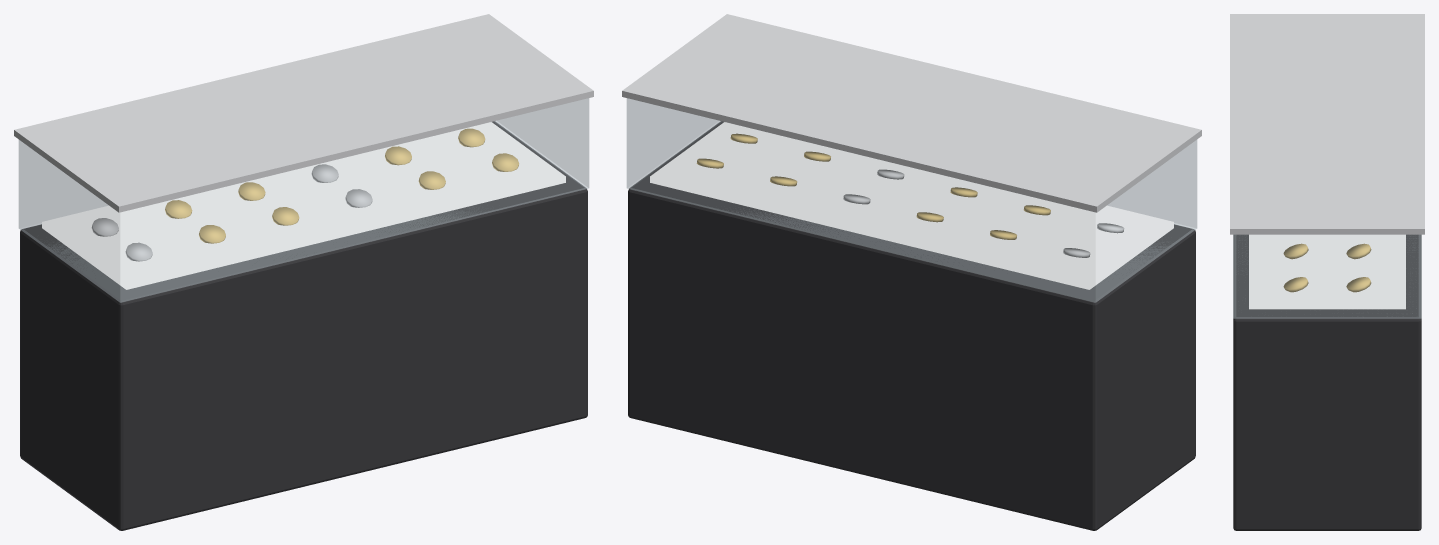
File: display_case.glb
The picture shows the model from 3 angles, left to right: view 1: azimuth 30°, elevation 25°; view 2: azimuth 150°, elevation 25°; view 3: azimuth 270°, elevation 25°; orthographic projection. The views are drawn at different scales.
Visible parts, largest first — view 1: display_case; view 2: display_case; view 3: display_case.
Part boxes in pixels (box(x1,y1,x2,y2)): display_case: box(14, 14, 593, 530); display_case: box(622, 14, 1201, 530); display_case: box(1230, 14, 1424, 530).
Size of the model in its own units: 1.62 by 1.07 by 0.62.
